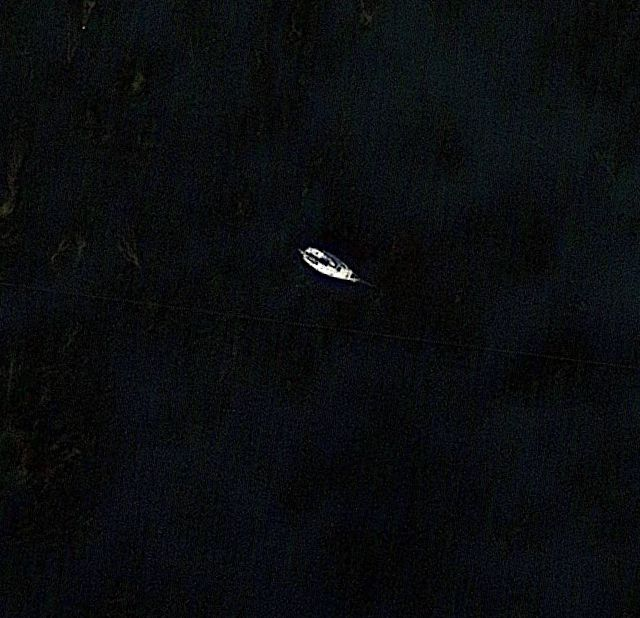boat: (296, 245, 360, 285)
